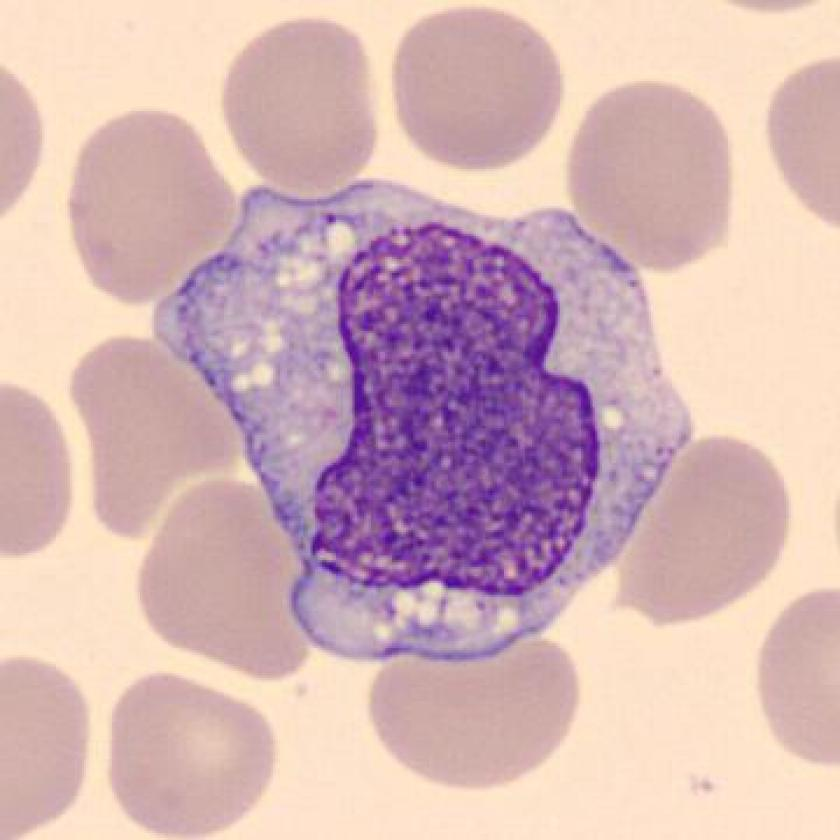monocyte: (134, 152, 715, 689)
